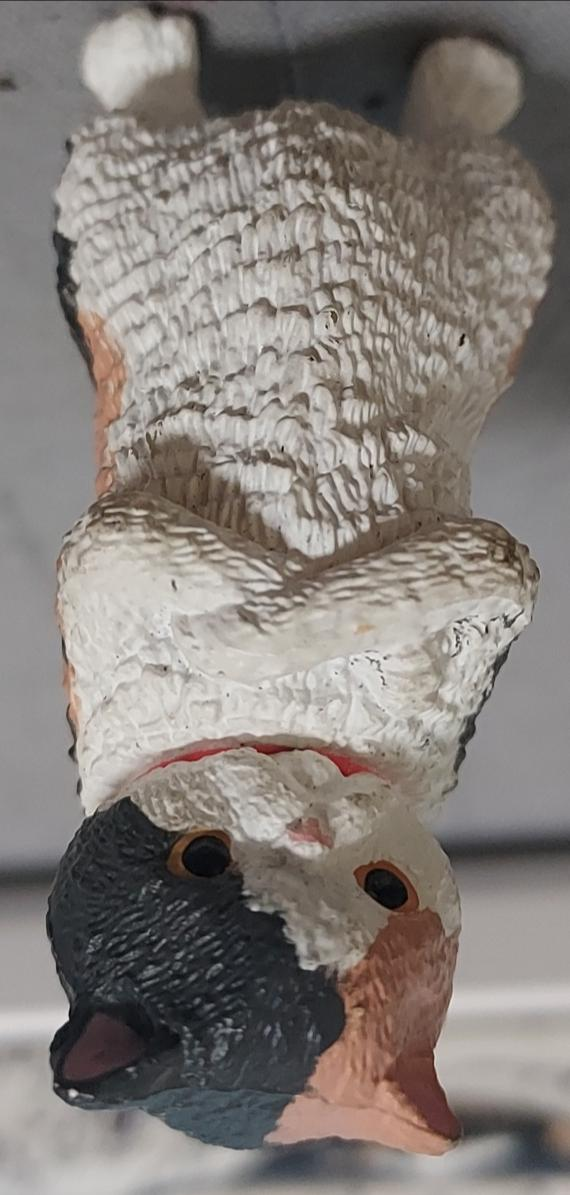cat: (1, 0, 570, 1195)
